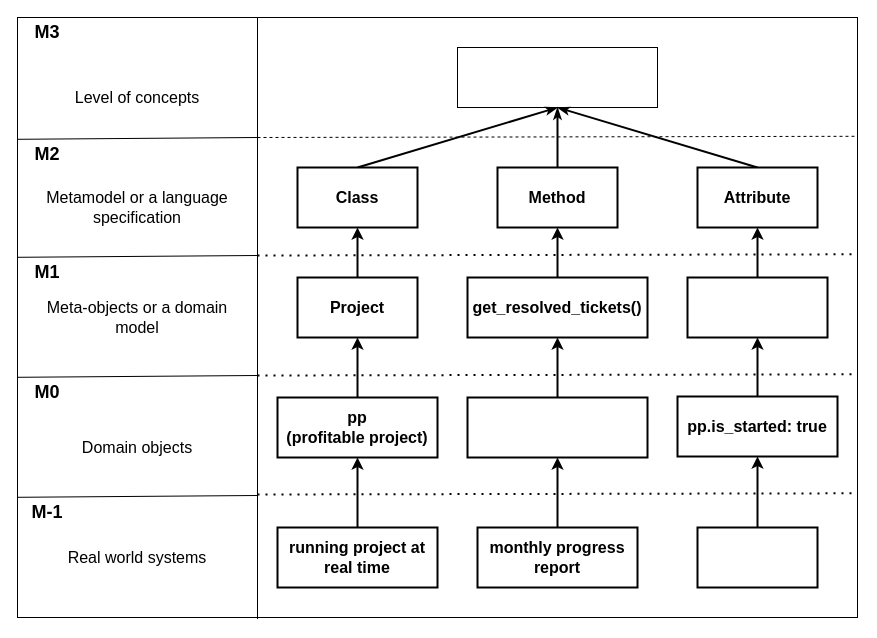
The diagram is 877 pixels wide and 638 high, and some of its shapes have lost their labels. The shapes that lost their labels are listed below. From the top down, each one's box as (x1, y1, x2, y2) in pixels, then its label:
(456, 46, 658, 108): Modeling element
(686, 276, 828, 338): is_started: bool
(466, 396, 648, 458): pp.get_resolved_tickets()
(696, 526, 818, 588): started project
